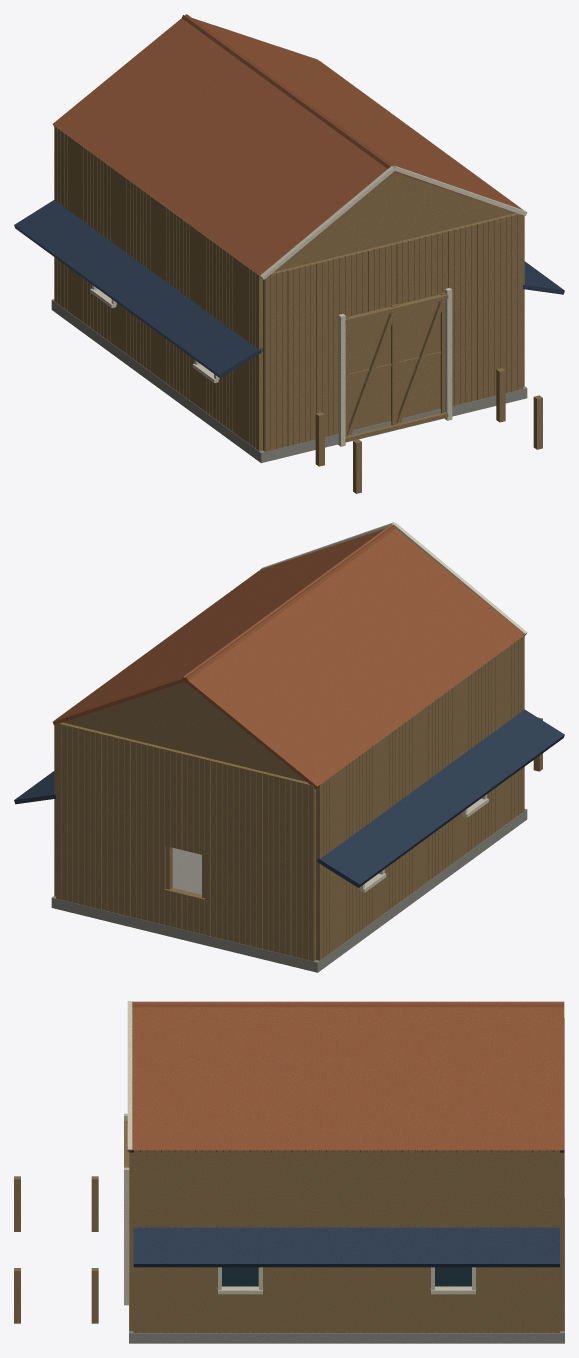
Rendered from BARN22_lod2.glb.
The picture shows the model from 3 angles, top to bottom: view 1: azimuth 30°, elevation 25°; view 2: azimuth 150°, elevation 25°; view 3: azimuth 270°, elevation 25°; orthographic projection. The views are drawn at different scales.
Parts seen in each view (by area): view 1: BARN22_LOD2; view 2: BARN22_LOD2; view 3: BARN22_LOD2.
Part boxes in pixels (x1,y1,x2,y2): BARN22_LOD2: (14,14,564,493); BARN22_LOD2: (14,522,564,972); BARN22_LOD2: (14,1001,564,1343).
Size of the model in its own units: 10.72 by 7.84 by 14.22.
9 materials, 7 textured.
